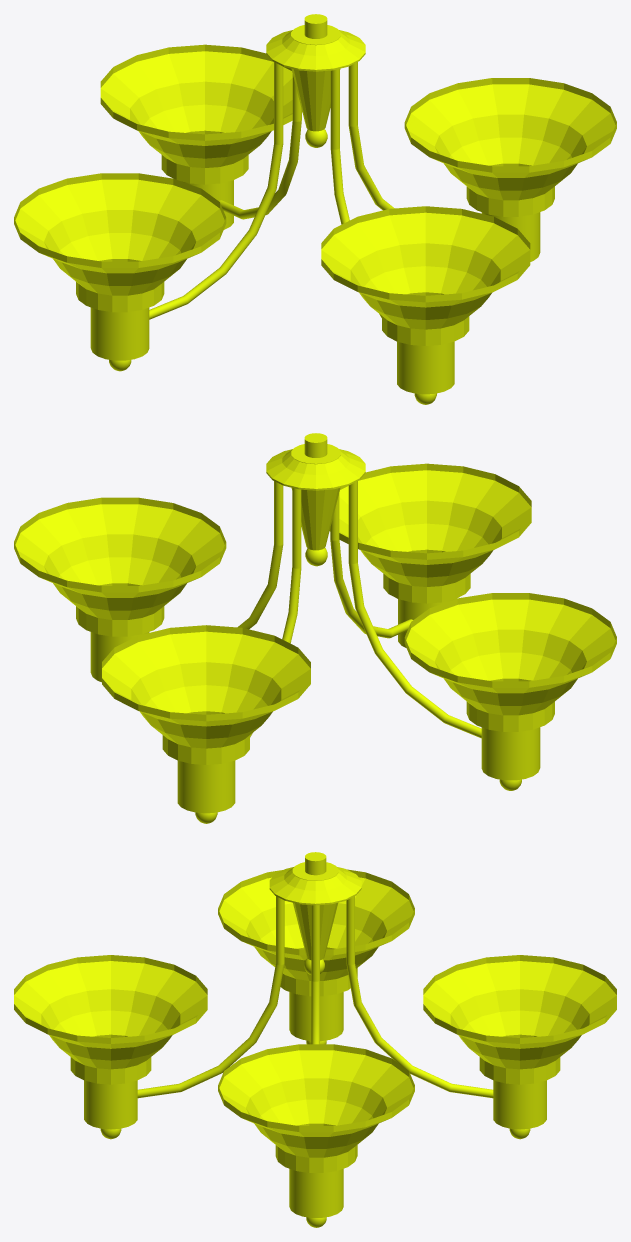
The model's file is Light_4.FBX.
The picture shows the model from 3 angles, top to bottom: view 1: azimuth 30°, elevation 25°; view 2: azimuth 150°, elevation 25°; view 3: azimuth 270°, elevation 25°; orthographic projection. The views are drawn at different scales.
Parts seen in each view (by area): view 1: livingroom light; view 2: livingroom light; view 3: livingroom light.
Part boxes in pixels (<box>): livingroom light: <box>14,14,616,404</box>; livingroom light: <box>14,433,616,823</box>; livingroom light: <box>14,852,616,1227</box>.
Size of the model in its own units: 1.43 by 0.727 by 1.41.
